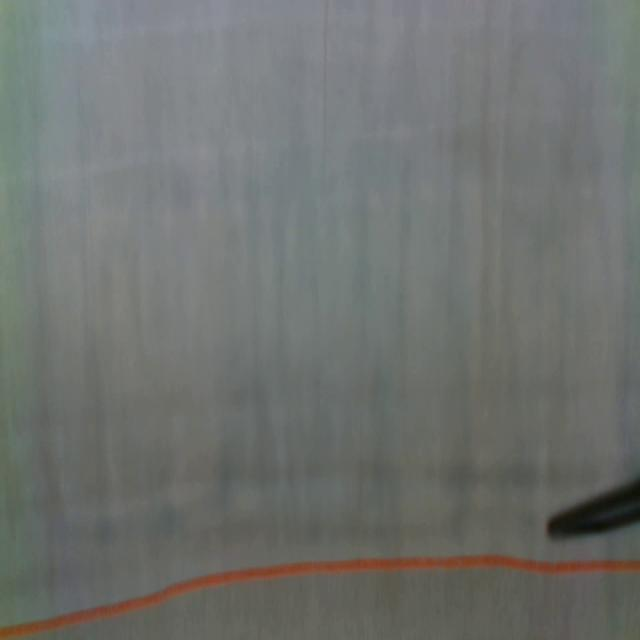color bleeding: (0, 451, 544, 553)
crease: (322, 0, 329, 162)
